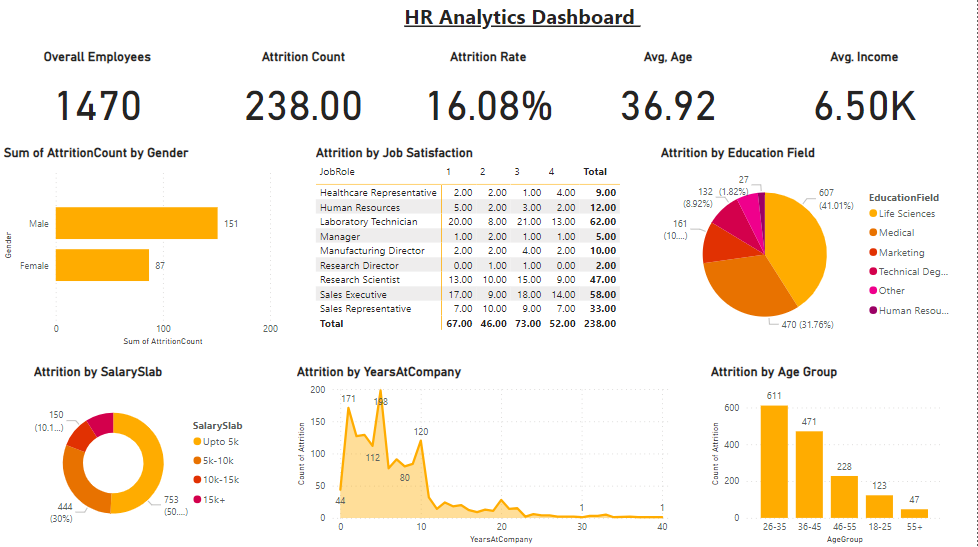

Layout of this report page (visuals, bound fields, positions):
{"tool":"powerbi","page":{"name":"Dashboard","canvas":[1280,720],"ordinal":0},"visuals":[{"type":"card","title":"Overall Employees","fields":{"Values":["Count(HR_Analytics.EmpID)"]},"box":[0,66.2,254.9,113.8],"z":0},{"type":"card","title":"Attrition Count","fields":{"Values":["Sum(HR_Analytics.AttritionCount)"]},"box":[283.7,66.2,226.1,113.8],"z":1000},{"type":"card","title":"Attrition Rate","fields":{"Values":["HR_Analytics.AttritionRate"]},"box":[527,66.2,223.2,113.8],"z":2000},{"type":"card","title":"Avg, Age","fields":{"Values":["Avg(HR_Analytics.Age)"]},"box":[764.6,66.2,220.3,113.8],"z":3000},{"type":"card","title":"Avg. Income","fields":{"Values":["Avg(HR_Analytics.MonthlyIncome)"]},"box":[1002.2,66.2,257.8,113.8],"z":4000},{"type":"pivotTable","title":"Attrition by Job Satisfaction","fields":{"Rows":["HR_Analytics.JobRole"],"Columns":["HR_Analytics.JobSatisfaction"],"Values":["Sum(HR_Analytics.AttritionCount)"]},"box":[409,193,409,267.8],"z":5000},{"type":"pieChart","title":"Attrition by Education Field","fields":{"Y":["Sum(HR_Analytics.AttritionCount)"],"Category":["HR_Analytics.EducationField"]},"box":[859.7,193,400.3,267.8],"z":6000},{"type":"barChart","fields":{"Category":["HR_Analytics.Gender"],"Y":["Sum(HR_Analytics.AttritionCount)"]},"box":[0,193,368.6,267.8],"z":7000},{"type":"columnChart","title":"Attrition by Age Group","fields":{"Category":["HR_Analytics.AgeGroup"],"Y":["Sum(HR_Analytics.AttritionCount)"]},"box":[925.9,479.5,313.9,240.5],"z":8000},{"type":"donutChart","title":"Attrition by SalarySlab","fields":{"Y":["Sum(HR_Analytics.AttritionCount)"],"Category":["HR_Analytics.SalarySlab"]},"box":[38.9,479.5,301,240.5],"z":9000},{"type":"areaChart","title":"Attrition by YearsAtCompany","fields":{"Category":["HR_Analytics.YearsAtCompany"],"Y":["CountNonNull(HR_Analytics.Attrition)"]},"box":[383,479.5,498.2,240.5],"z":10000},{"type":"textbox","box":[440.6,0,485.3,47.5],"z":11000}]}

Visuals, with their boxes in screenshot pixels (x1, y1, x2, y2), scaled from the page's 1280x720 canvas onto the 978x547 screenshot:
"Overall Employees" card: <bbox>0, 50, 195, 137</bbox>
"Attrition Count" card: <bbox>217, 50, 390, 137</bbox>
"Attrition Rate" card: <bbox>403, 50, 573, 137</bbox>
"Avg, Age" card: <bbox>584, 50, 753, 137</bbox>
"Avg. Income" card: <bbox>766, 50, 963, 137</bbox>
"Attrition by Job Satisfaction" pivotTable: <bbox>313, 147, 625, 350</bbox>
"Attrition by Education Field" pieChart: <bbox>657, 147, 963, 350</bbox>
barChart - HR_Analytics.Gender x Sum(HR_Analytics.AttritionCount): <bbox>0, 147, 282, 350</bbox>
"Attrition by Age Group" columnChart: <bbox>707, 364, 947, 546</bbox>
"Attrition by SalarySlab" donutChart: <bbox>30, 364, 260, 546</bbox>
"Attrition by YearsAtCompany" areaChart: <bbox>293, 364, 673, 546</bbox>
textbox: <bbox>337, 0, 707, 36</bbox>
